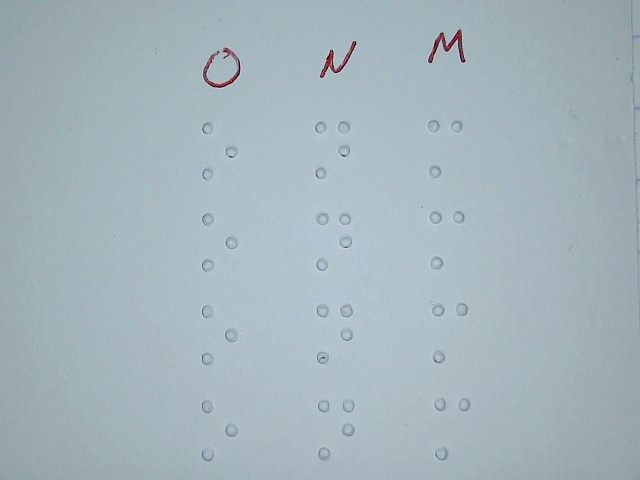M: (431, 395, 473, 462), (424, 117, 466, 180), (426, 208, 468, 271), (429, 300, 471, 363)
N: (312, 117, 354, 180), (313, 209, 355, 272), (313, 301, 355, 364), (315, 398, 357, 461)
O: (199, 119, 241, 182), (199, 210, 241, 273), (198, 303, 240, 366), (198, 398, 240, 461)
